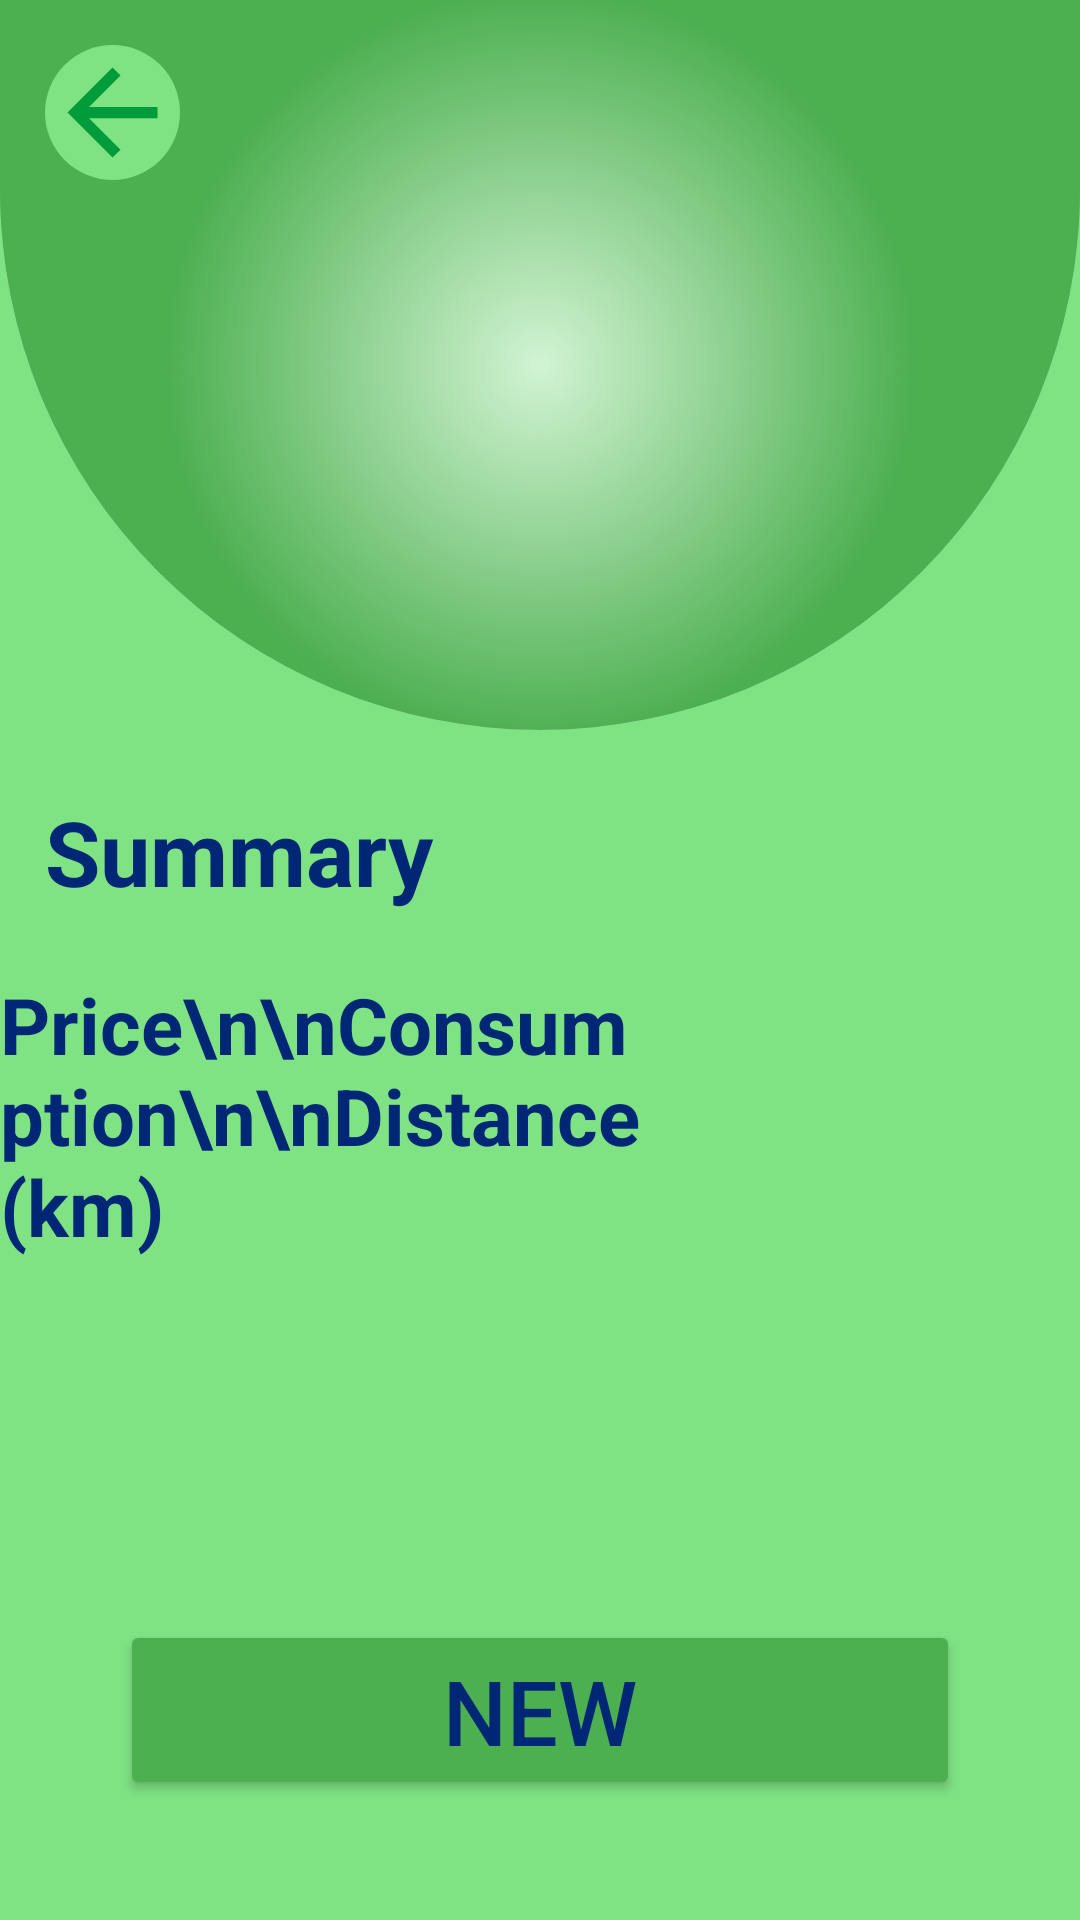

Icon bounding boxes for this 1080×1920 phone screenshot, format (x1, y1, x2, y2):
voltar: (45, 45, 180, 180)
